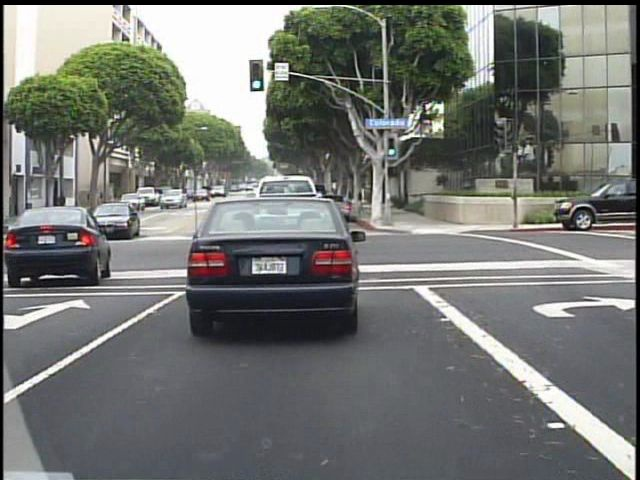person: (55, 188, 73, 221)
